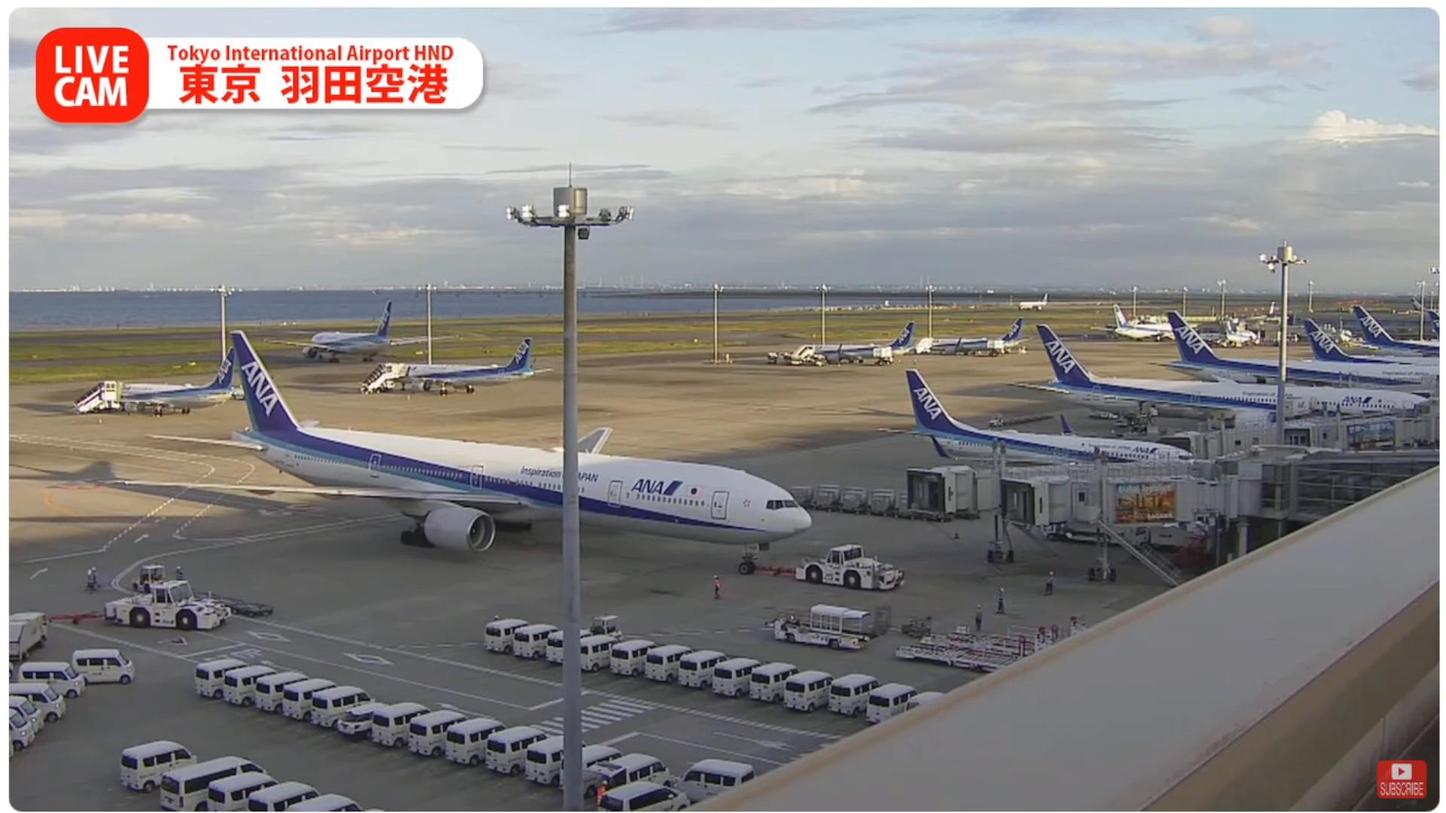APS: (796, 542, 909, 592)
Aerobridge: (937, 438, 1217, 490), (1025, 480, 1229, 535)
Dolly: (152, 580, 283, 617)
JCPL: (107, 324, 815, 577), (893, 630, 1039, 676)
Skyloader: (774, 600, 879, 655)
Tractor: (134, 564, 168, 598)
Window: (1286, 455, 1435, 523)
